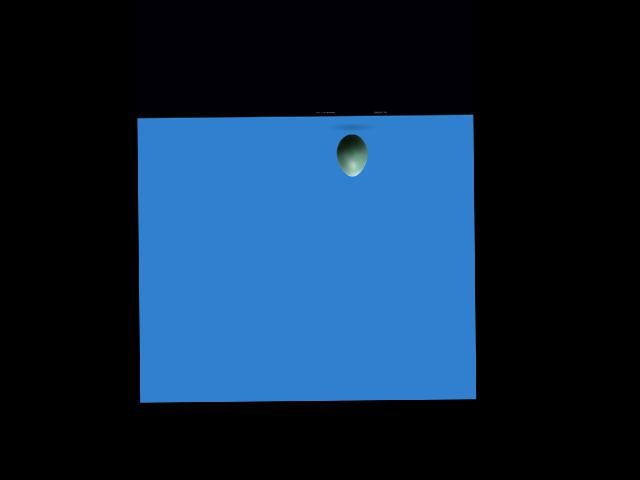egg: (336, 134, 367, 176)
